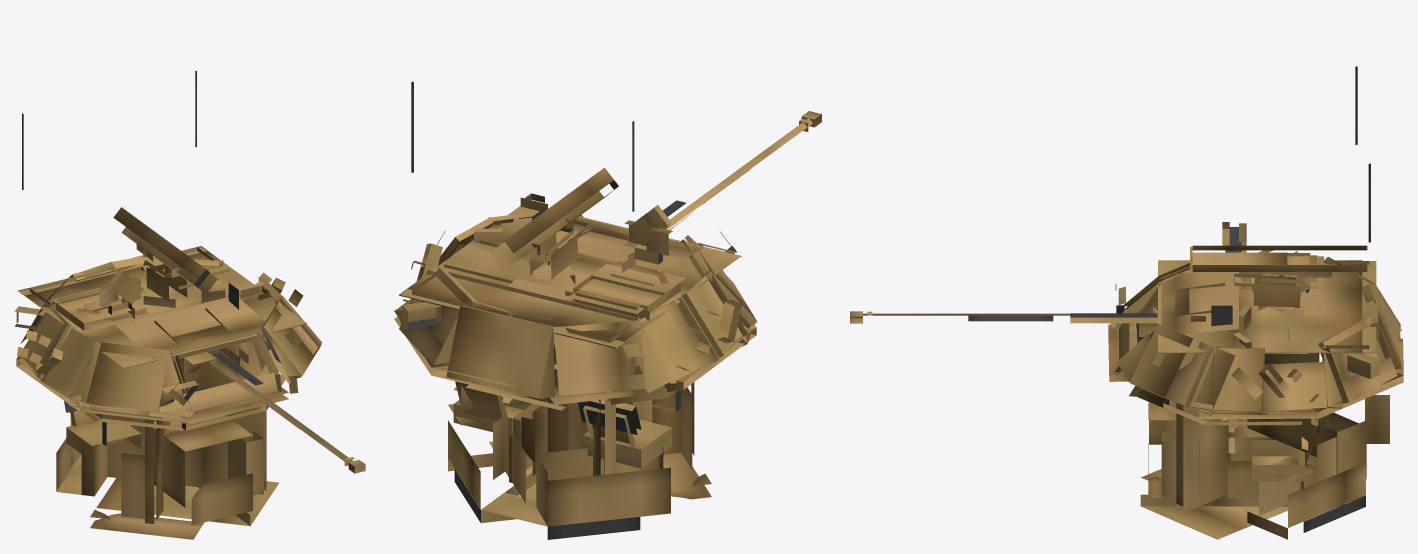
Rendered from bmp2_turret.obj.
3 renders of one model, left to right at view 1: azimuth 30°, elevation 25°; view 2: azimuth 150°, elevation 25°; view 3: azimuth 270°, elevation 25°, orthographic. The views are drawn at different scales.
Visible parts, largest first — view 1: turret, gun; view 2: turret, gun; view 3: turret, gun.
Boxes of the visible parts, x1=… form: turret: x1=14, y1=71, x2=322, y2=539; gun: x1=173, y1=340, x2=365, y2=473; turret: x1=394, y1=81, x2=757, y2=539; gun: x1=576, y1=111, x2=821, y2=229; turret: x1=1108, y1=66, x2=1403, y2=539; gun: x1=850, y1=295, x2=1157, y2=336.
Bounding box in the file's own units: 2.73 × 4.15 × 4.85.
